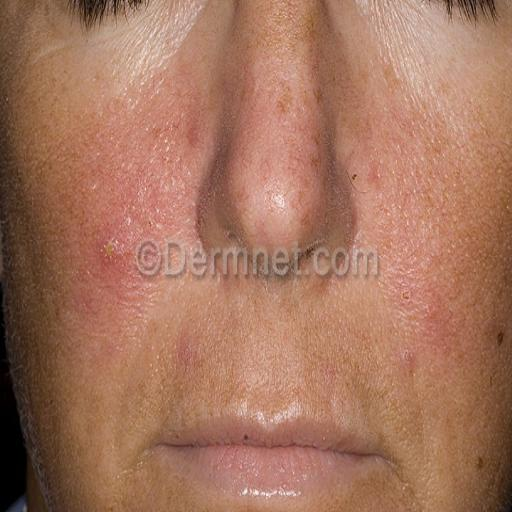Skin_Lesion: (270, 88, 312, 126), (355, 152, 391, 190), (167, 122, 202, 153), (175, 331, 200, 374), (94, 230, 122, 268), (398, 346, 421, 385), (490, 317, 510, 355), (388, 286, 415, 312), (192, 214, 214, 242), (473, 452, 489, 476)
